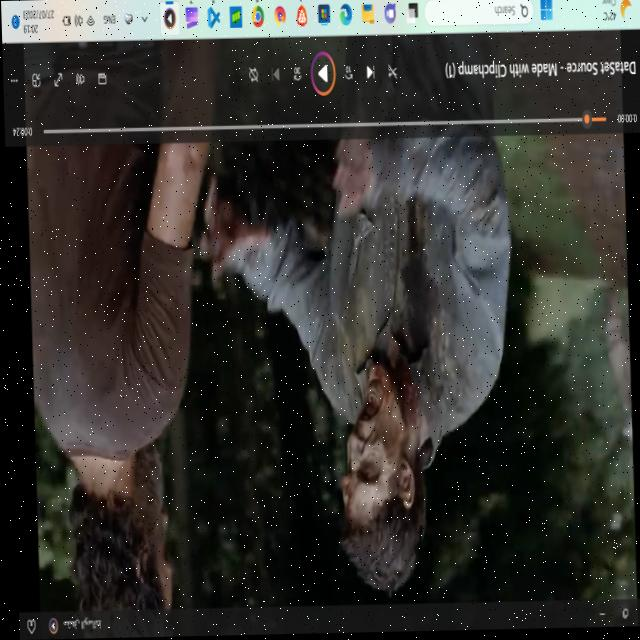Zombie: (337, 365, 427, 584)
